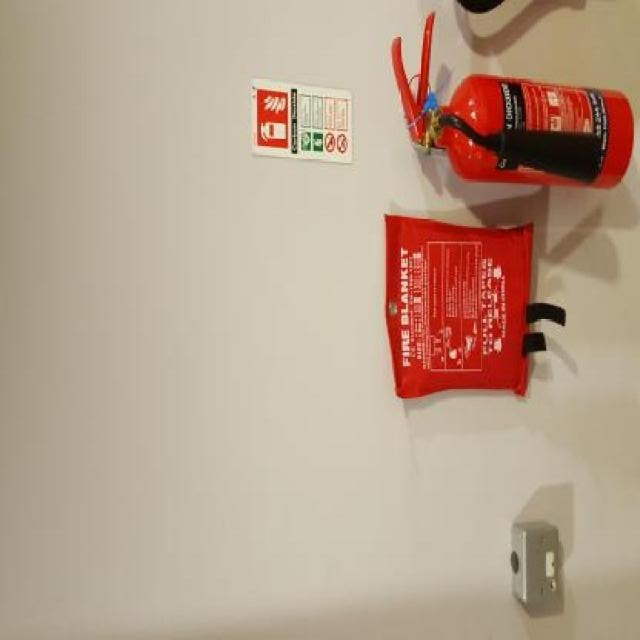fire extinguisher: (390, 19, 635, 190)
